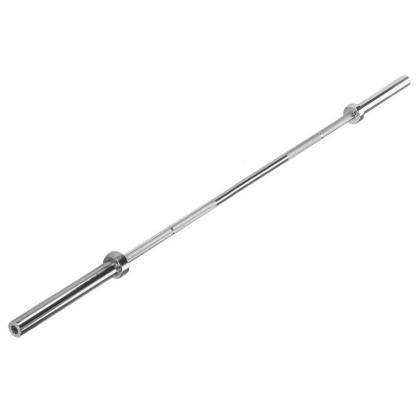Barbell: (6, 305, 29, 343)
